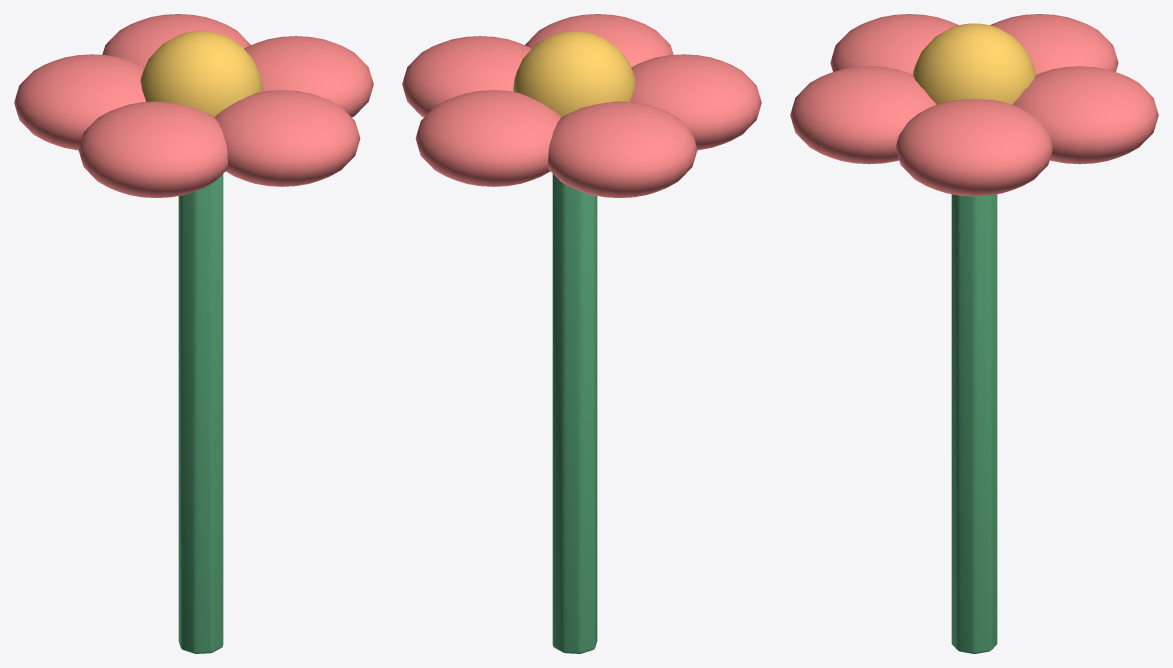
Rendered from flower.glb.
The picture shows the model from 3 angles, left to right: view 1: azimuth 30°, elevation 25°; view 2: azimuth 150°, elevation 25°; view 3: azimuth 270°, elevation 25°; orthographic projection.
Visible parts, largest first — view 1: flower; view 2: flower; view 3: flower.
Boxes of the visible parts, <box> form: flower: <box>14,14,373,653</box>; flower: <box>402,14,761,653</box>; flower: <box>790,14,1158,653</box>.
Bounding box in the file's own units: 0.2266 × 0.43 × 0.2331.
